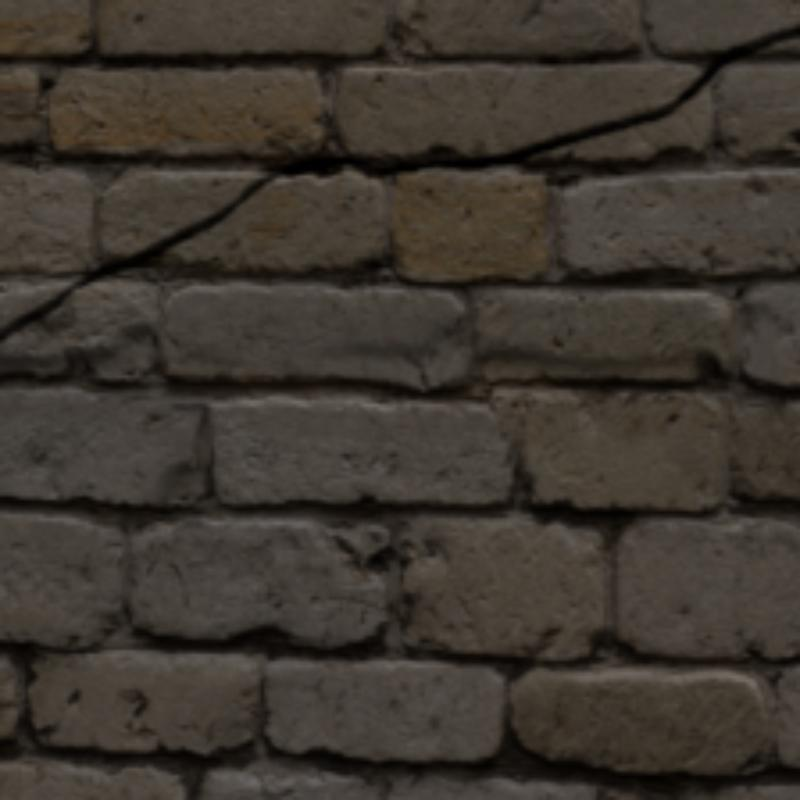pothole: (71, 25, 796, 286)
